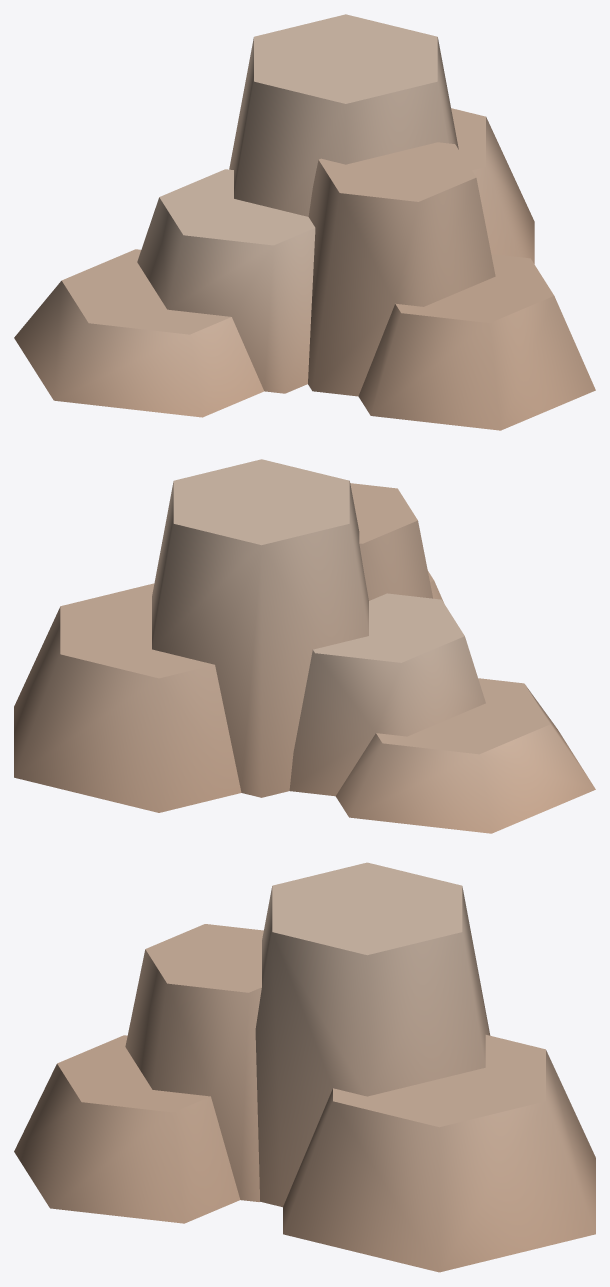
Rendered from resource-stone-large.glb.
The picture shows the model from 3 angles, top to bottom: view 1: azimuth 30°, elevation 25°; view 2: azimuth 150°, elevation 25°; view 3: azimuth 270°, elevation 25°; orthographic projection. The views are drawn at different scales.
Parts seen in each view (by area): view 1: resource-stone-large; view 2: resource-stone-large; view 3: resource-stone-large.
Part boxes in pixels (x1,y1,x2,y2): resource-stone-large: (14,14,595,430); resource-stone-large: (14,459,595,833); resource-stone-large: (14,862,595,1272).
Size of the model in its own units: 0.376 by 0.1602 by 0.3369.
